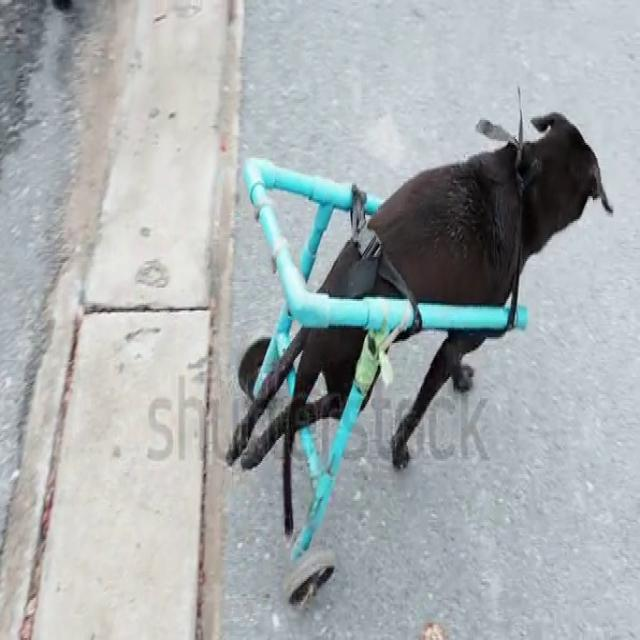injured-animals: (222, 84, 616, 611)
